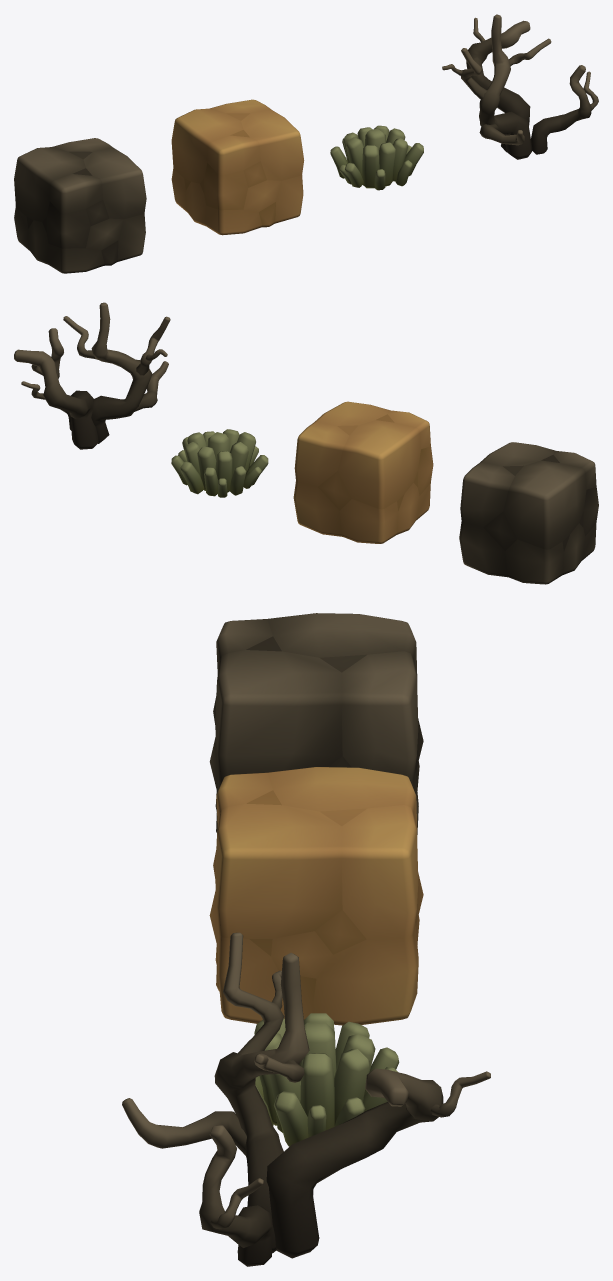
Rendered from cube_world_dirt_block_-_proto_series.glb.
The picture shows the model from 3 angles, top to bottom: view 1: azimuth 30°, elevation 25°; view 2: azimuth 150°, elevation 25°; view 3: azimuth 270°, elevation 25°; orthographic projection. The views are drawn at different scales.
Visible parts, largest first — view 1: block_dirt1_2_LOD0, block_dirt1_1_LOD0, deco_bush_dead1_LOD0, deco_grass_bundle_LOD0; view 2: block_dirt1_2_LOD0, block_dirt1_1_LOD0, deco_bush_dead1_LOD0, deco_grass_bundle_LOD0; view 3: block_dirt1_1_LOD0, block_dirt1_2_LOD0, deco_bush_dead1_LOD0, deco_grass_bundle_LOD0.
Part boxes in pixels (bbox=[...]): block_dirt1_2_LOD0: bbox=[14, 138, 146, 273]; block_dirt1_1_LOD0: bbox=[171, 99, 304, 235]; deco_bush_dead1_LOD0: bbox=[442, 14, 598, 159]; deco_grass_bundle_LOD0: bbox=[330, 125, 423, 190]; block_dirt1_2_LOD0: bbox=[459, 442, 598, 584]; block_dirt1_1_LOD0: bbox=[293, 401, 433, 543]; deco_bush_dead1_LOD0: bbox=[14, 302, 170, 449]; deco_grass_bundle_LOD0: bbox=[171, 429, 268, 497]; block_dirt1_1_LOD0: bbox=[209, 767, 423, 1025]; block_dirt1_2_LOD0: bbox=[209, 613, 423, 834]; deco_bush_dead1_LOD0: bbox=[122, 932, 490, 1266]; deco_grass_bundle_LOD0: bbox=[254, 1013, 399, 1146].
Size of what is drawn, in the model's own units: 688 by 176 by 203.
Materials: 1 (1 with a texture image).
